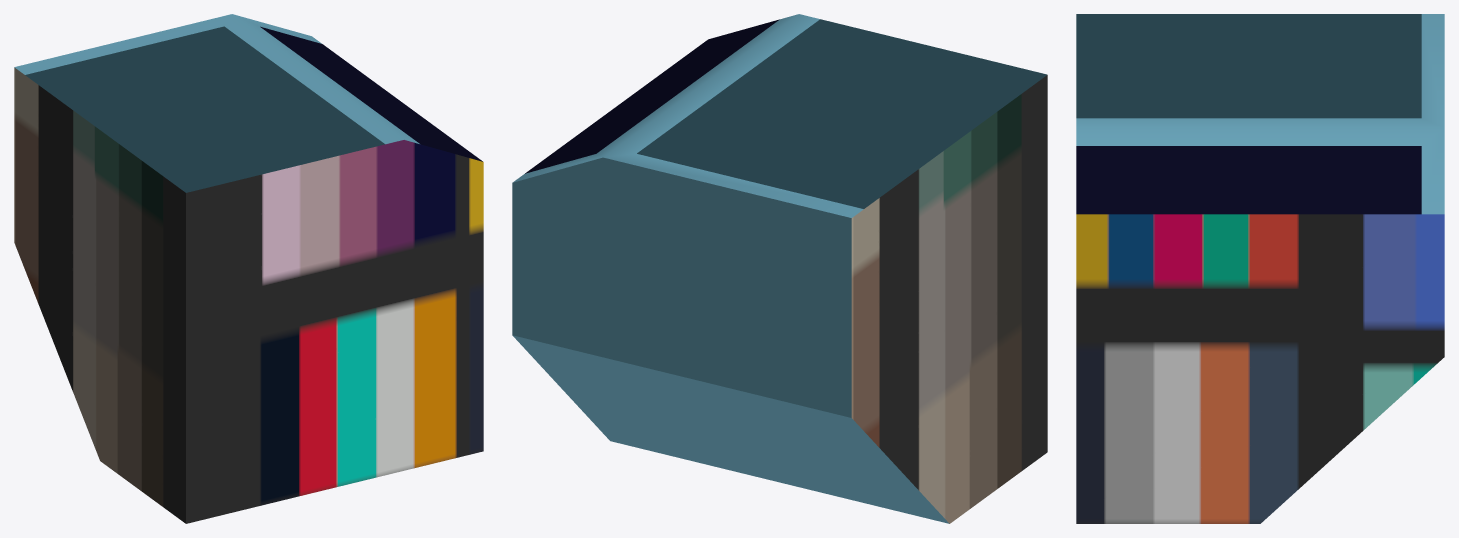
File: tile_1_1_7.gltf
The picture shows the model from 3 angles, left to right: view 1: azimuth 30°, elevation 25°; view 2: azimuth 150°, elevation 25°; view 3: azimuth 270°, elevation 25°; orthographic projection. The views are drawn at different scales.
Parts seen in each view (by area): view 1: arena.floor.corners.015; view 2: arena.floor.corners.015; view 3: arena.floor.corners.015.
Boxes of the visible parts, x1,y1,x2,y2 form: arena.floor.corners.015: (14,14,483,523); arena.floor.corners.015: (512,14,1047,523); arena.floor.corners.015: (1076,14,1444,523).
Size of the model in its own units: 8 by 8.5 by 8.
1 material, 1 textured.
